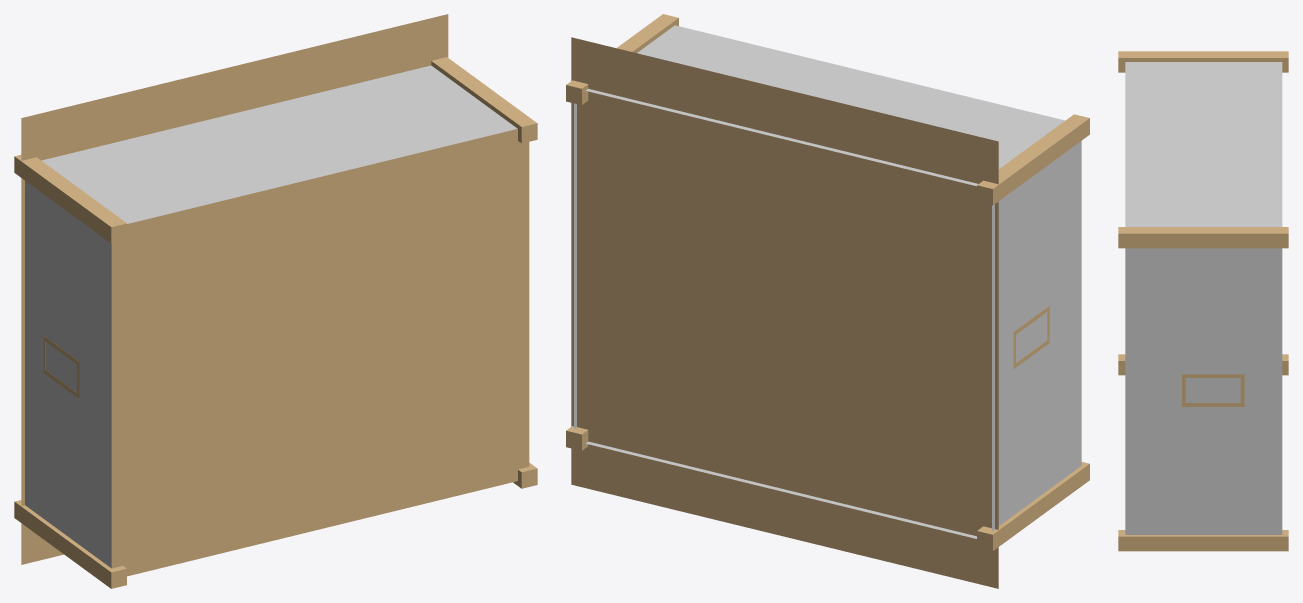
File: House01.fbx
The picture shows the model from 3 angles, left to right: view 1: azimuth 30°, elevation 25°; view 2: azimuth 150°, elevation 25°; view 3: azimuth 270°, elevation 25°; orthographic projection. The views are drawn at different scales.
Visible parts, largest first — view 1: 平面.003; view 2: 平面.003; view 3: 平面.003.
Boxes of the visible parts, <box> form: 平面.003: <box>14,14,537,588</box>; 平面.003: <box>566,14,1089,588</box>; 平面.003: <box>1118,51,1288,551</box>.
Size of the model in its own units: 54.22 by 54.17 by 21.29.
